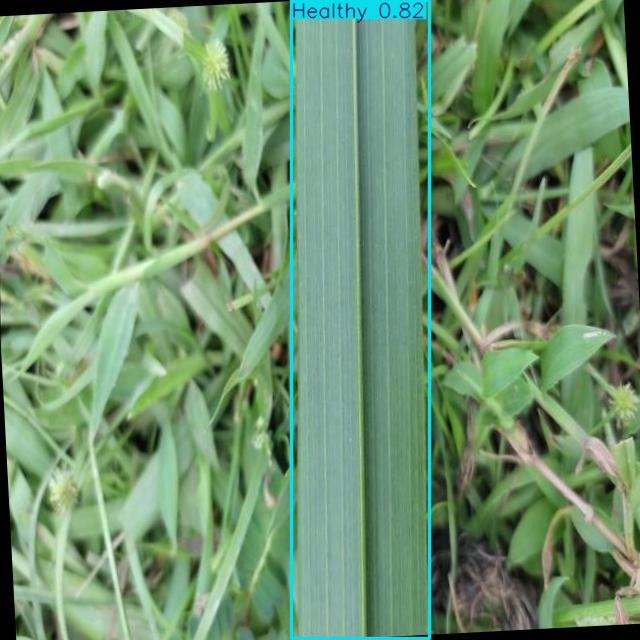Healthy: (292, 0, 430, 639)
